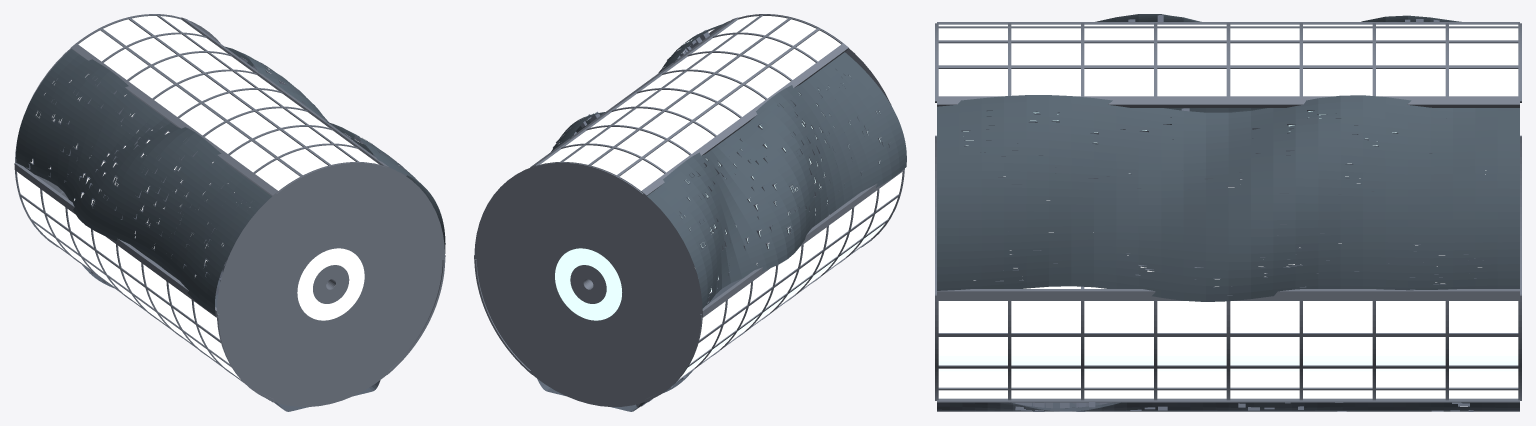
Rendered from colony.glb.
3 views of the same model, side by side, from view 1: azimuth 30°, elevation 25°; view 2: azimuth 150°, elevation 25°; view 3: azimuth 270°, elevation 25° (orthographic). The views are drawn at different scales.
Parts seen in each view (by area): view 1: ColonyCaps, ColonyLand, ColonyPanes, ColonyFrames, FarCity; view 2: ColonyCaps, ColonyLand, ColonyPanes, ColonyFrames, FarCity; view 3: ColonyLand, ColonyPanes, ColonyFrames, FarCity.
Part boxes in pixels (x1,y1,x2,y2): ColonyCaps: (15, 14, 445, 406); ColonyLand: (16, 46, 445, 411); ColonyPanes: (17, 16, 378, 379); ColonyFrames: (14, 14, 445, 402); FarCity: (26, 56, 406, 402); ColonyCaps: (474, 14, 904, 406); ColonyLand: (537, 23, 906, 411); ColonyPanes: (540, 16, 902, 378); ColonyFrames: (474, 14, 904, 402); FarCity: (551, 30, 890, 407); ColonyLand: (937, 14, 1519, 411); ColonyPanes: (938, 24, 1518, 398); ColonyFrames: (935, 22, 1521, 402); FarCity: (961, 15, 1486, 411).
Bounding box in the file's own units: 696 × 652 × 1006.
